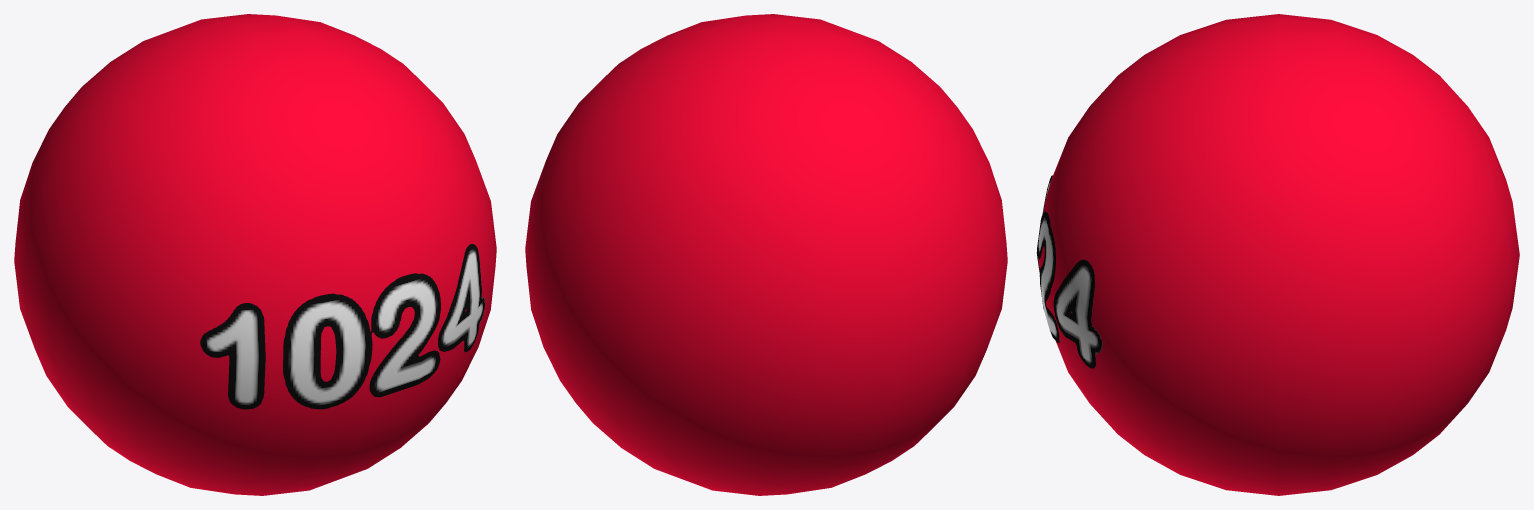
File: Ball 1024.fbx
3 views of the same model, side by side, from view 1: azimuth 30°, elevation 25°; view 2: azimuth 150°, elevation 25°; view 3: azimuth 270°, elevation 25° (orthographic).
Visible parts, largest first — view 1: Ball 1024; view 2: Ball 1024; view 3: Ball 1024.
Part boxes in pixels (x1,y1,x2,y2): Ball 1024: (14,14,496,495); Ball 1024: (525,14,1007,495); Ball 1024: (1036,14,1519,495).
Bounding box in the file's own units: 164 × 164 × 164.
